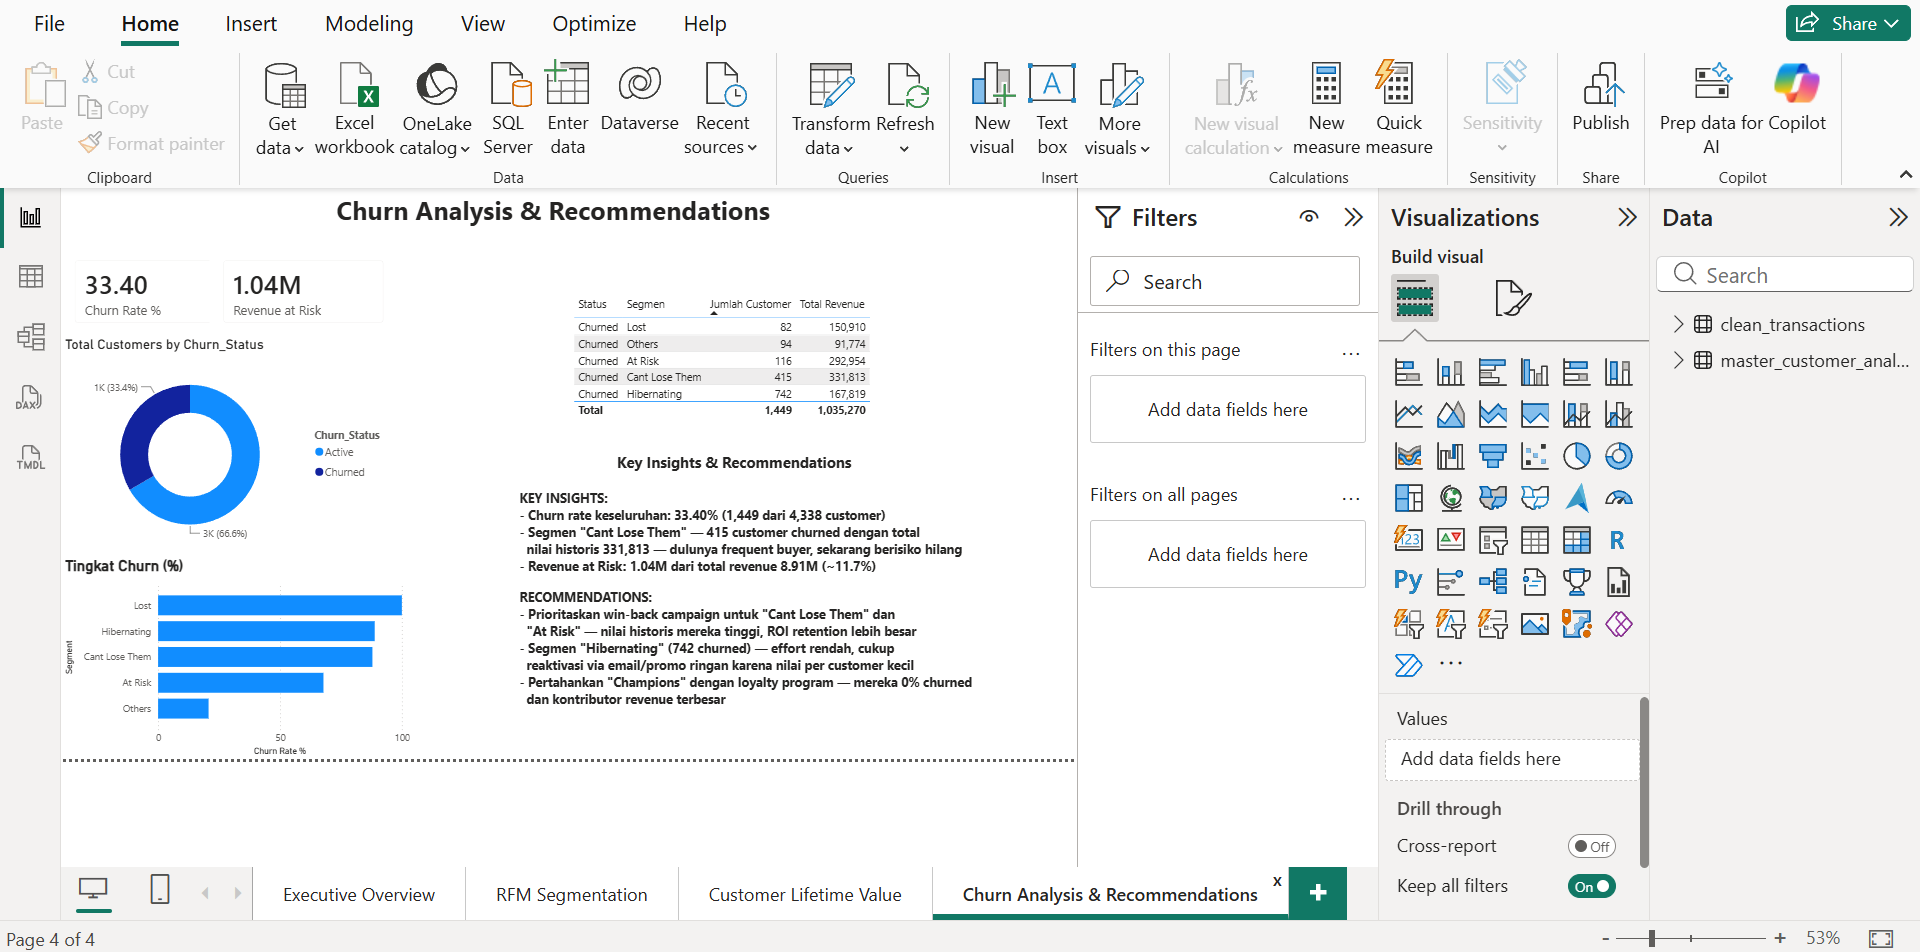

The dashboard page shown, as its layout file describes it:
{"tool":"powerbi","page":{"name":"Churn Analysis & Recommendations","canvas":[1280,720],"ordinal":3},"visuals":[{"type":"cardVisual","fields":{"Data":["master_customer_analytics.Churn Rate %"]},"box":[0,73.7,255.1,113.4],"z":0},{"type":"textbox","box":[342,0,599.1,73.7],"z":1},{"type":"cardVisual","fields":{"Data":["master_customer_analytics.Revenue at Risk"]},"box":[187.1,73.7,236.2,113.4],"z":2},{"type":"donutChart","fields":{"Category":["master_customer_analytics.Churn_Status"],"Y":["master_customer_analytics.Total Customers"]},"box":[0,187.1,423.3,277.8],"z":3},{"type":"clusteredBarChart","title":"Tingkat Churn (%)","fields":{"Category":["master_customer_analytics.Segment"],"Y":["master_customer_analytics.Churn Rate %"]},"box":[0,464.9,444.1,255.1],"z":4},{"type":"tableEx","fields":{"Values":["master_customer_analytics.Churn_Status","master_customer_analytics.Segment","master_customer_analytics.CustomerID","master_customer_analytics.Monetary"]},"box":[640.6,130.4,470.6,175.7],"z":5},{"type":"textbox","box":[695.4,326.9,362.8,47.2],"z":6},{"type":"textbox","box":[572.6,374.2,600.9,309.9],"z":7}]}

Visuals, with their boxes on the page's 1280x720 design canvas (x1, y1, x2, y2). These are canvas units, not pixel positions in the 1920x952 screenshot, which may show the page scaled, cropped or inside an application window:
cardVisual - master_customer_analytics.Churn Rate %: BBox(0, 74, 255, 187)
textbox: BBox(342, 0, 941, 74)
cardVisual - master_customer_analytics.Revenue at Risk: BBox(187, 74, 423, 187)
donutChart - master_customer_analytics.Churn_Status x master_customer_analytics.Total Customers: BBox(0, 187, 423, 465)
"Tingkat Churn (%)" clusteredBarChart: BBox(0, 465, 444, 720)
tableEx - master_customer_analytics.Churn_Status x master_customer_analytics.Segment: BBox(641, 130, 1111, 306)
textbox: BBox(695, 327, 1058, 374)
textbox: BBox(573, 374, 1174, 684)
